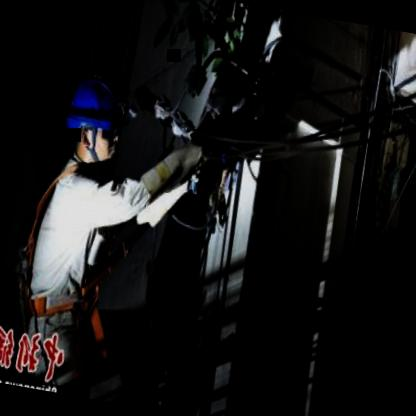helmet: (50, 63, 134, 182)
